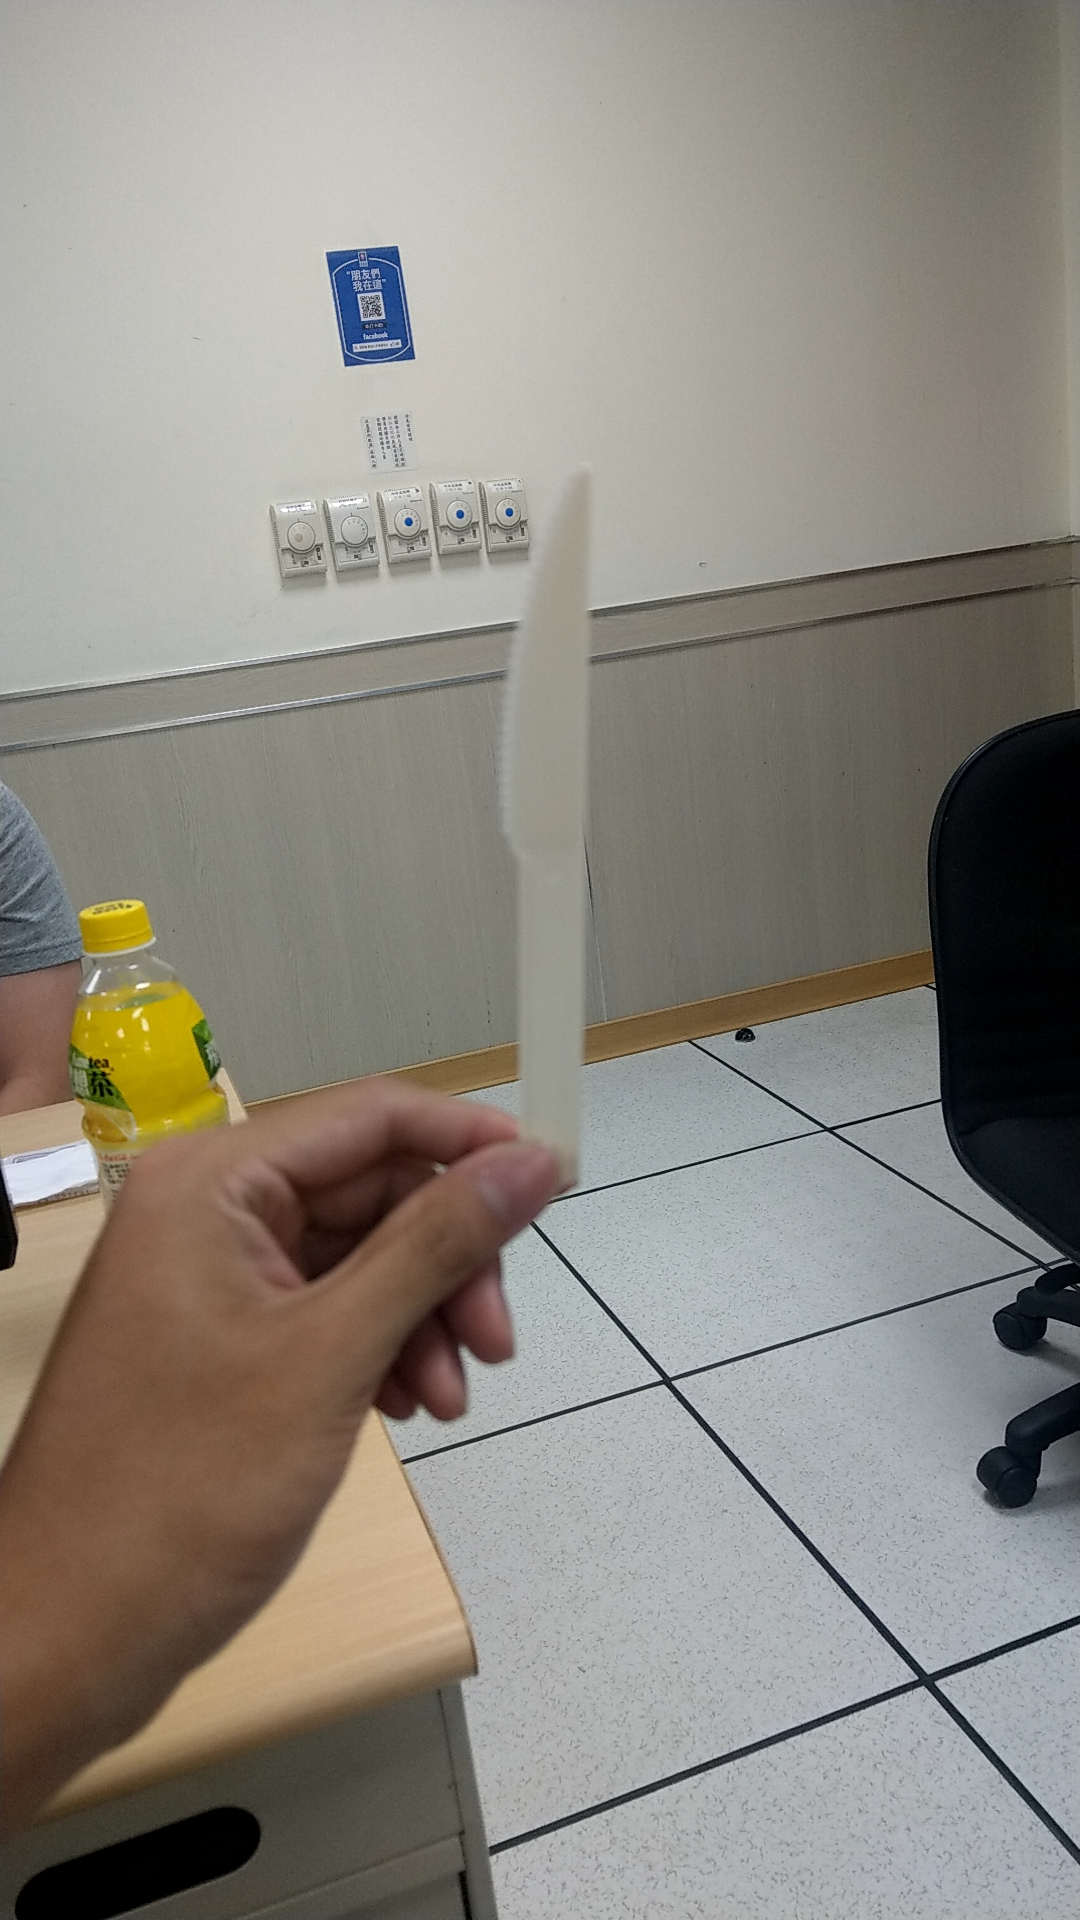knife: (491, 454, 597, 1139)
